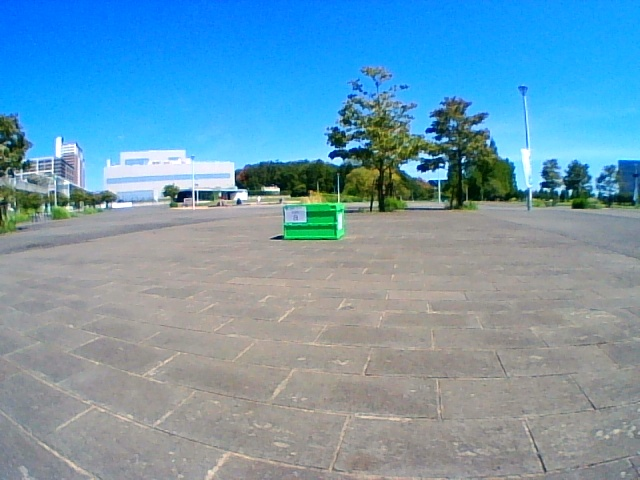green_box: (282, 203, 344, 239)
tag: (285, 207, 305, 222)
